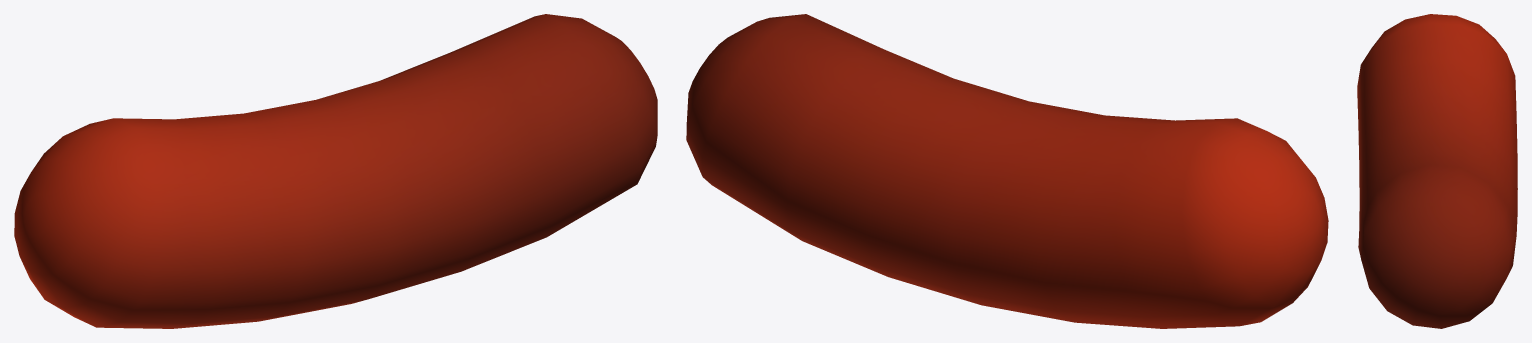
File: FriedSausage.fbx
The picture shows the model from 3 angles, left to right: view 1: azimuth 30°, elevation 25°; view 2: azimuth 150°, elevation 25°; view 3: azimuth 270°, elevation 25°; orthographic projection. The views are drawn at different scales.
Visible parts, largest first — view 1: FriedSausage; view 2: FriedSausage; view 3: FriedSausage.
Part boxes in pixels (x1,y1,x2,y2): FriedSausage: (14, 14, 657, 328); FriedSausage: (686, 14, 1328, 328); FriedSausage: (1357, 14, 1517, 328).
Size of the model in its own units: 0.3374 by 0.116 by 0.1007.
